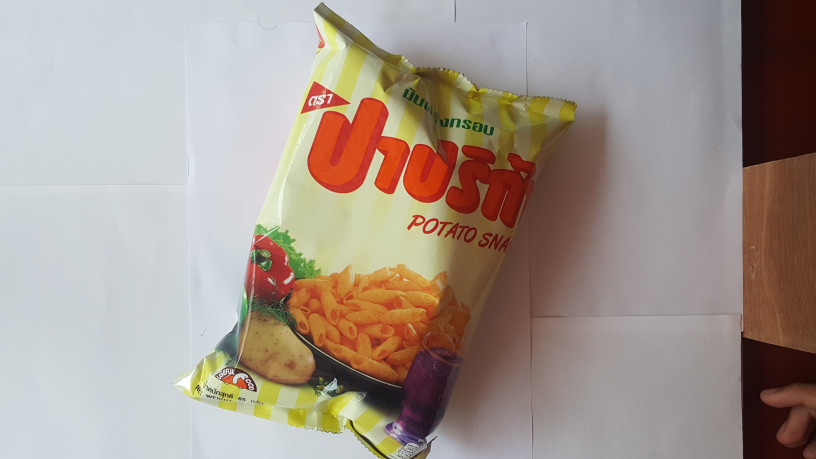paprika: (174, 1, 593, 459)
